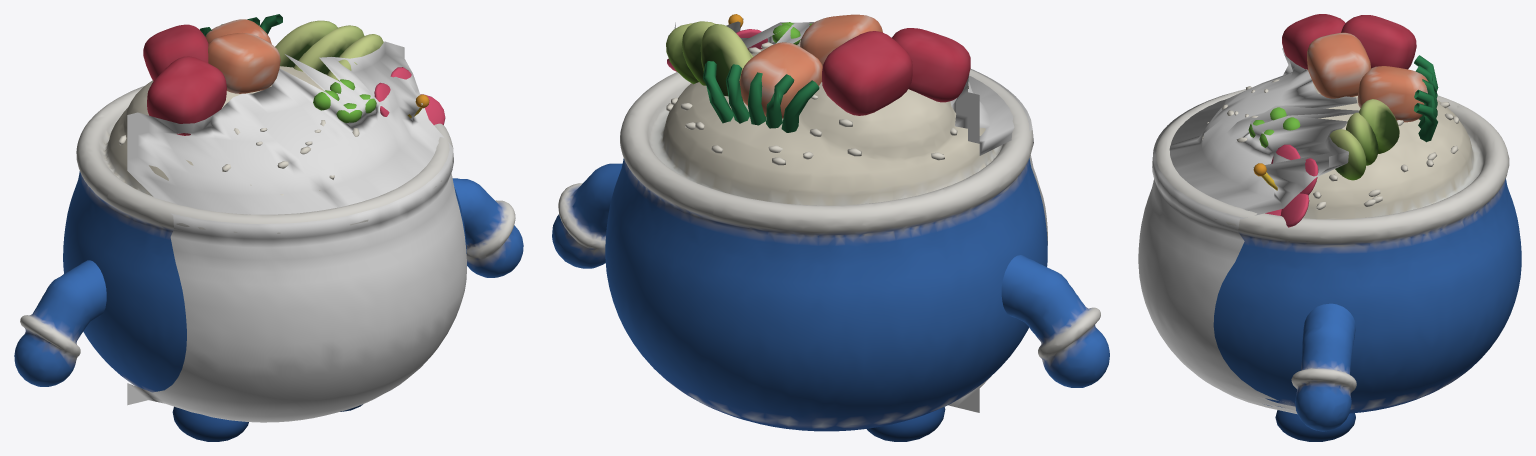
File: folk2_kai.glb
3 renders of one model, left to right at view 1: azimuth 30°, elevation 25°; view 2: azimuth 150°, elevation 25°; view 3: azimuth 270°, elevation 25°, orthographic. The views are drawn at different scales.
Parts seen in each view (by area): view 1: kai_face, kai_body, kai_arm_l, kai_arm_r, kai_foot_l; view 2: kai_body, kai_arm_l, kai_face, kai_arm_r, kai_foot_l; view 3: kai_body, kai_face, kai_arm_r, kai_foot_r.
Boxes of the visible parts, left/top/right/bottom form: kai_face: left=127, top=41, right=466, bottom=422; kai_body: left=63, top=14, right=466, bottom=392; kai_arm_l: left=14, top=260, right=106, bottom=386; kai_arm_r: left=452, top=178, right=523, bottom=277; kai_foot_l: left=172, top=406, right=248, bottom=441; kai_body: left=605, top=14, right=1047, bottom=431; kai_arm_l: left=1001, top=255, right=1109, bottom=387; kai_face: left=674, top=18, right=1047, bottom=412; kai_arm_r: left=552, top=163, right=622, bottom=268; kai_foot_l: left=867, top=407, right=945, bottom=441; kai_body: left=1152, top=14, right=1521, bottom=413; kai_face: left=1138, top=48, right=1358, bottom=414; kai_arm_r: left=1291, top=303, right=1356, bottom=431; kai_foot_r: left=1275, top=410, right=1355, bottom=441.
Bounding box in the file's own units: 1.48 × 1.08 × 1.04.
